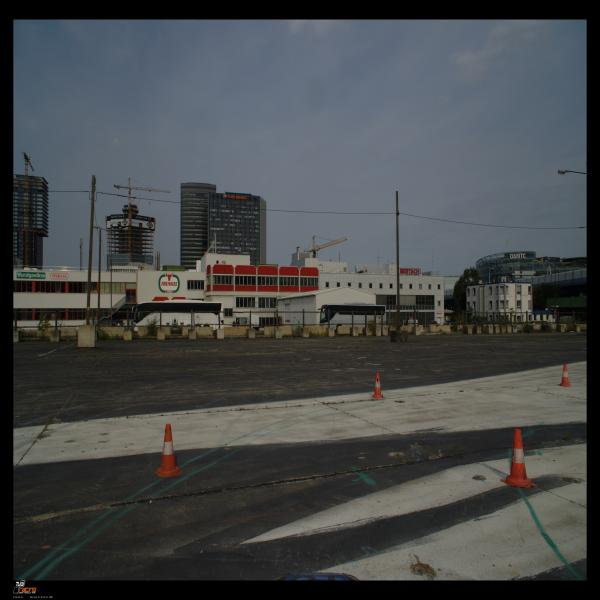orange_cone: (500, 428, 538, 488), (154, 423, 183, 478), (370, 372, 385, 399), (558, 363, 570, 387)
